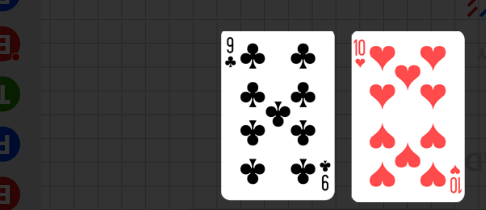10H: (354, 38, 367, 70)
9C: (224, 35, 238, 70)
